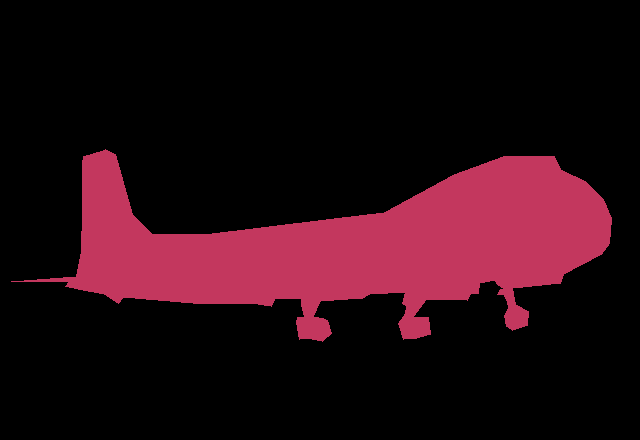Airplane: (11, 149, 612, 342)
